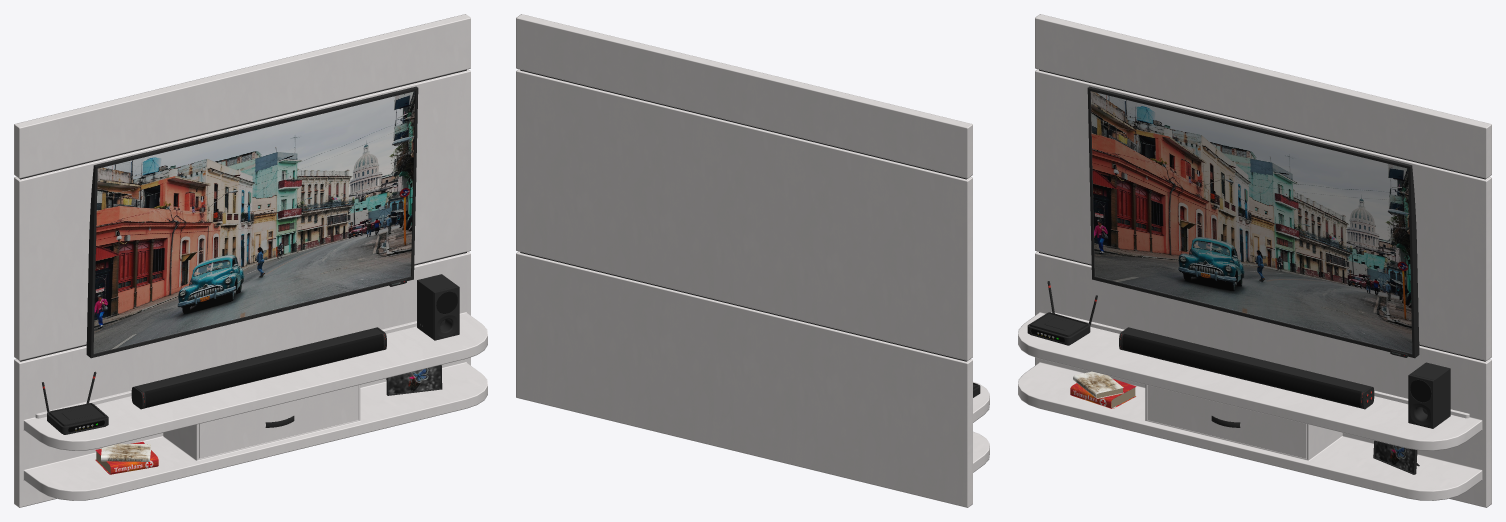
The picture shows the model from 3 angles, left to right: view 1: azimuth 30°, elevation 25°; view 2: azimuth 150°, elevation 25°; view 3: azimuth 330°, elevation 25°; orthographic projection.
Parts seen in each view (by area): view 1: BELA_ZA_POLICU-material (×3), TV-material, CRNA-material (×4), TV_Crna-material, ZVUCNIK_MESH-material, SLIKA1-material, Knjiga7-material, Knjiga10-material; view 2: BELA_ZA_POLICU-material, CRNA-material; view 3: BELA_ZA_POLICU-material (×3), TV-material, CRNA-material (×4), TV_Crna-material, ZVUCNIK_MESH-material, SLIKA1-material, Knjiga7-material, Knjiga10-material.
Part boxes in pixels (left/top/right/bottom): BELA_ZA_POLICU-material (×3): left=14, top=14, right=487, bottom=507; TV-material: left=93, top=91, right=415, bottom=353; CRNA-material (×4): left=20, top=69, right=466, bottom=434; TV_Crna-material: left=86, top=86, right=418, bottom=358; ZVUCNIK_MESH-material: left=144, top=334, right=383, bottom=407; SLIKA1-material: left=388, top=365, right=440, bottom=394; Knjiga7-material: left=101, top=443, right=150, bottom=461; Knjiga10-material: left=95, top=441, right=158, bottom=474; BELA_ZA_POLICU-material: left=516, top=14, right=989, bottom=507; CRNA-material: left=520, top=69, right=967, bottom=361; BELA_ZA_POLICU-material (×3): left=1018, top=14, right=1491, bottom=507; TV-material: left=1090, top=91, right=1412, bottom=353; CRNA-material (×4): left=1027, top=69, right=1485, bottom=428; TV_Crna-material: left=1087, top=86, right=1419, bottom=358; ZVUCNIK_MESH-material: left=1122, top=334, right=1361, bottom=407; SLIKA1-material: left=1375, top=441, right=1414, bottom=472; Knjiga7-material: left=1073, top=371, right=1123, bottom=398; Knjiga10-material: left=1070, top=379, right=1136, bottom=408.
Bounding box in the file's own units: 2 × 1.61 × 0.3276.
Materials: 11 (7 with a texture image).
